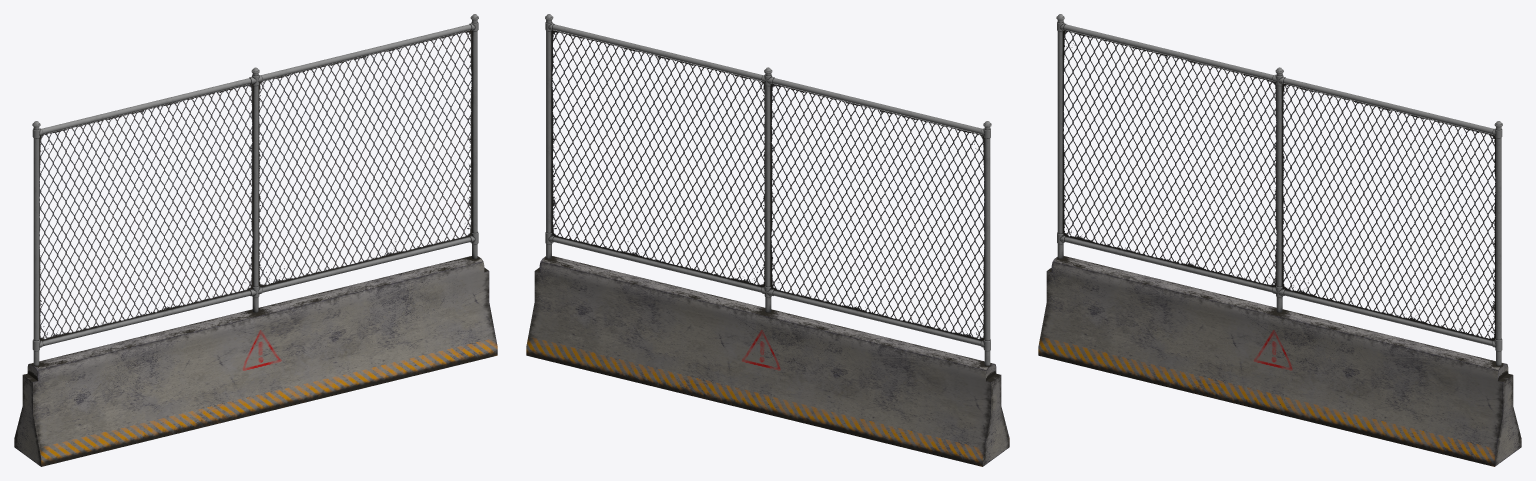
Rendered from fence_concrete.glb.
3 views of the same model, side by side, from view 1: azimuth 30°, elevation 25°; view 2: azimuth 150°, elevation 25°; view 3: azimuth 330°, elevation 25° (orthographic).
Parts seen in each view (by area): view 1: fence_concrete; view 2: fence_concrete; view 3: fence_concrete.
Part boxes in pixels (x1,y1,x2,y2): fence_concrete: (14, 14, 497, 466); fence_concrete: (526, 14, 1009, 466); fence_concrete: (1038, 14, 1521, 466).
Size of the model in its own units: 2 by 1.4 by 0.2044.
Materials: 2 (2 with a texture image).
